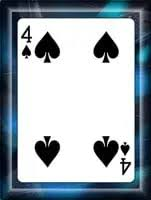four of spades: (18, 17, 136, 182)
